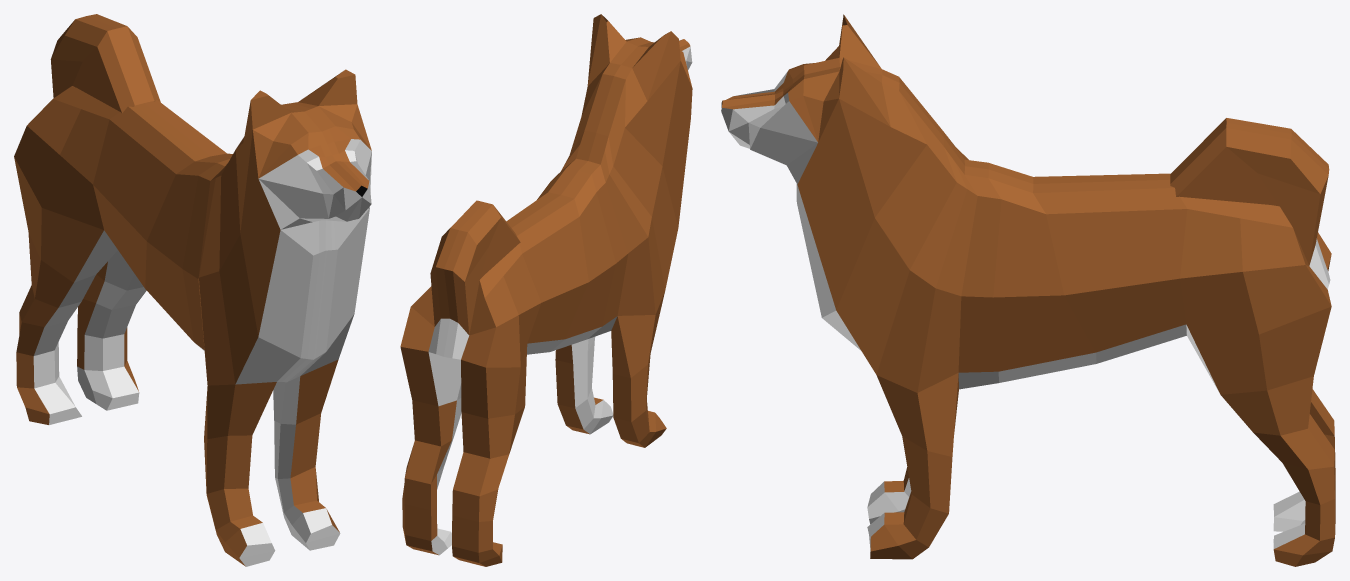
The model's file is uploads_files_4290468_Shiba.fbx.
3 views of the same model, side by side, from view 1: azimuth 30°, elevation 25°; view 2: azimuth 150°, elevation 25°; view 3: azimuth 270°, elevation 25° (orthographic). The views are drawn at different scales.
Visible parts, largest first — view 1: Shiba; view 2: Shiba; view 3: Shiba.
Part boxes in pixels (x1,y1,x2,y2): Shiba: [14, 14, 371, 566]; Shiba: [400, 14, 692, 566]; Shiba: [721, 14, 1335, 566].
Size of the model in its own units: 112 by 435 by 480.
